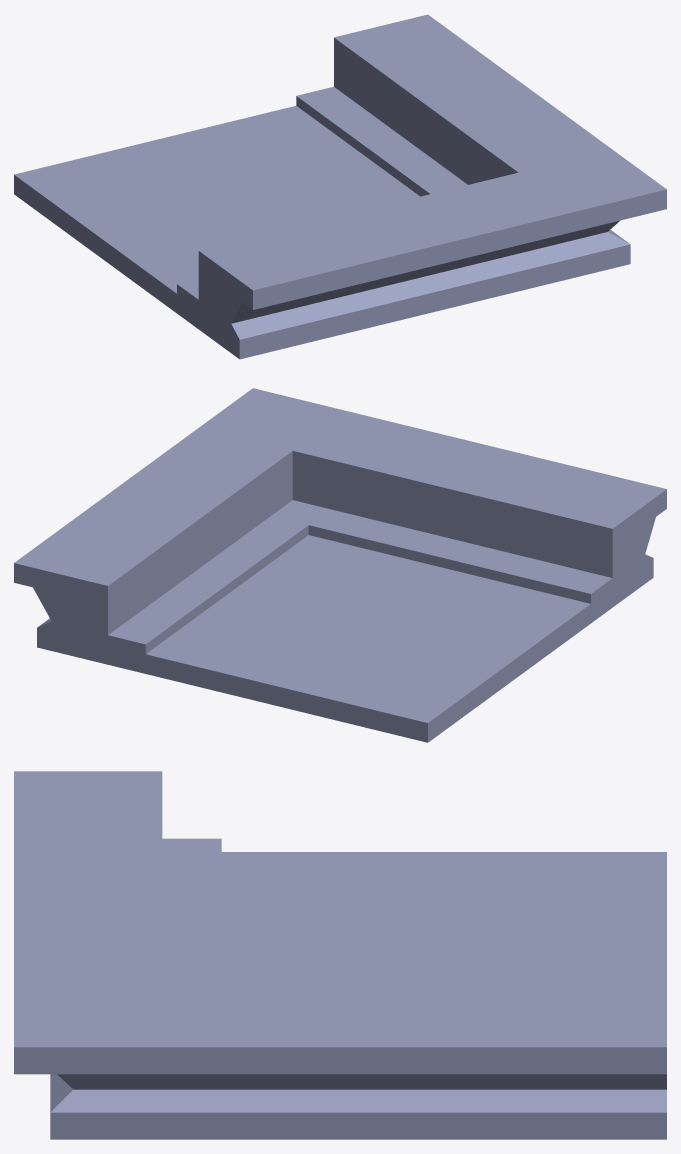
Rendered from roof-flat-corner.obj.
The picture shows the model from 3 angles, top to bottom: view 1: azimuth 30°, elevation 25°; view 2: azimuth 150°, elevation 25°; view 3: azimuth 270°, elevation 25°; orthographic projection. The views are drawn at different scales.
Bounding box in the file's own units: 2.2 × 0.4 × 2.2.
